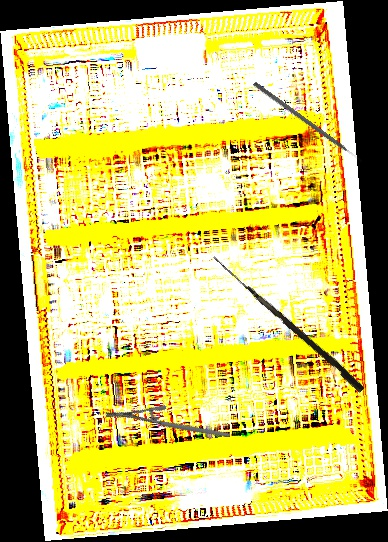Hook Surgical: (206, 256, 368, 393), (251, 81, 364, 165)
Needle Holder: (103, 375, 231, 475)
